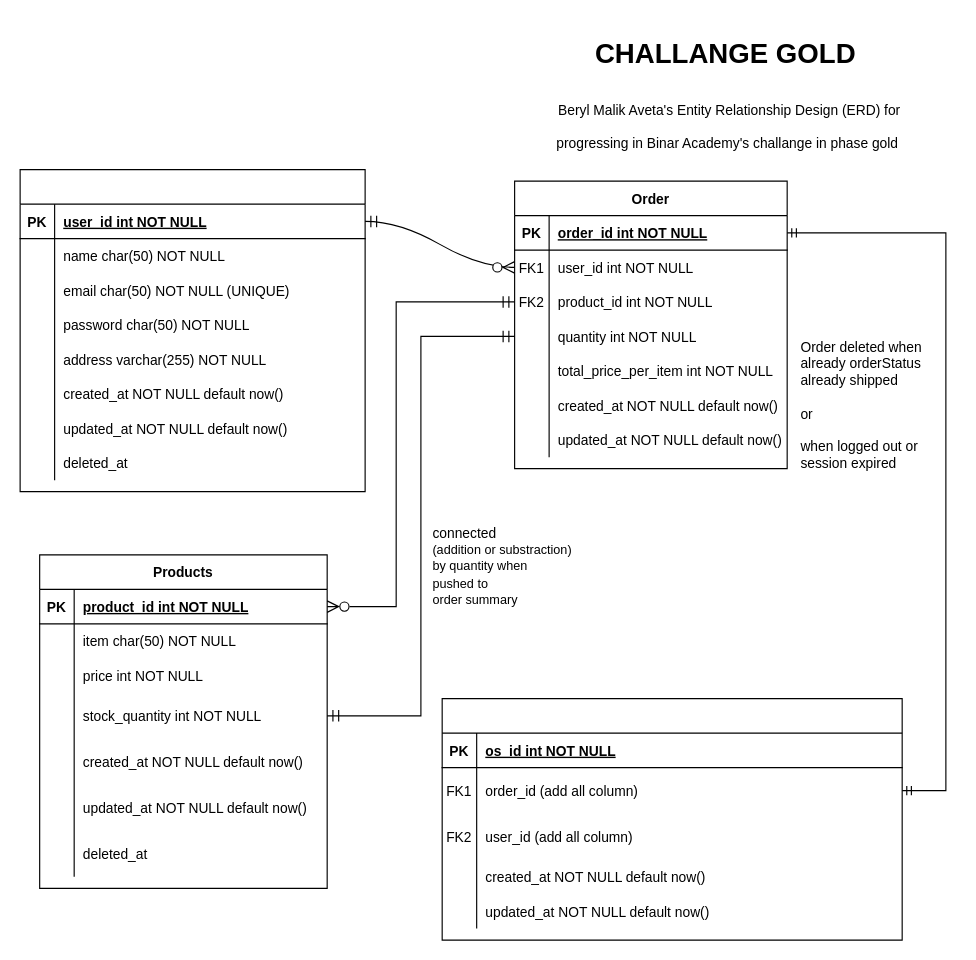
Image size: 976x960. Some labels were removed from this diagram. Each missing label, with the box of its shape:
Shipments: (441, 697, 902, 940)
Users: (19, 168, 365, 492)
